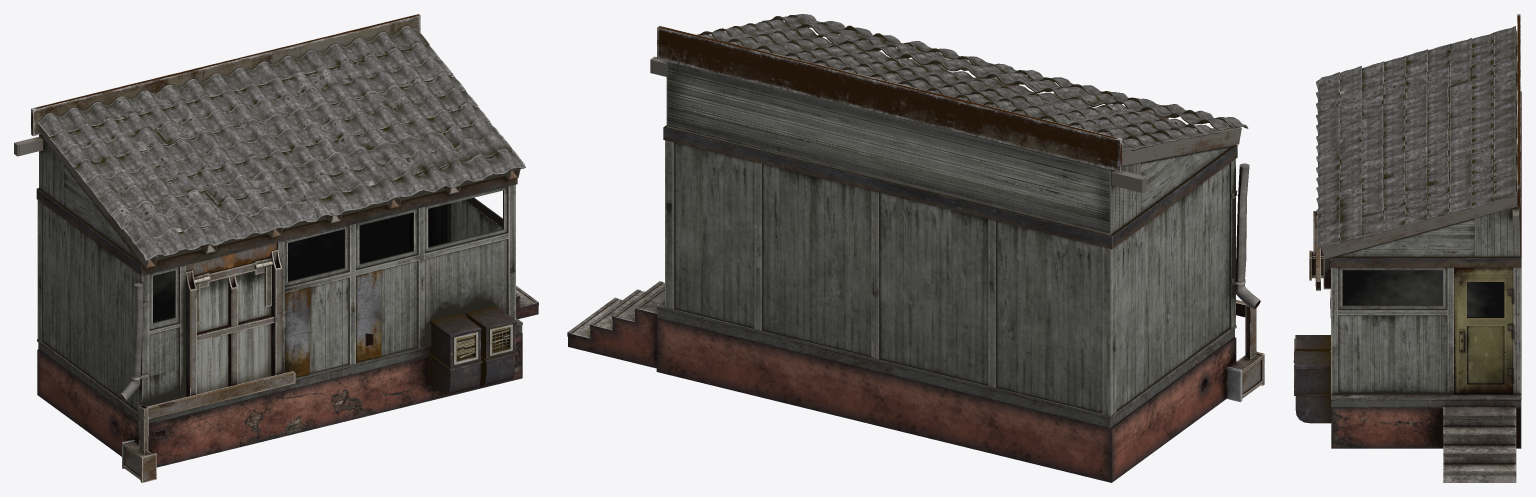
The model's file is Wooden Damaged Building.fbx.
The picture shows the model from 3 angles, left to right: view 1: azimuth 30°, elevation 25°; view 2: azimuth 150°, elevation 25°; view 3: azimuth 270°, elevation 25°; orthographic projection. The views are drawn at different scales.
Parts seen in each view (by area): view 1: t4; view 2: t4; view 3: t4.
Part boxes in pixels (<box>): t4: <box>14,14,538,482</box>; t4: <box>567,14,1264,482</box>; t4: <box>1293,14,1521,482</box>.
Size of the model in its own units: 794 by 453 by 357.
4 materials, 4 textured.
